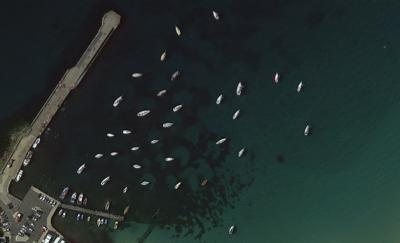Ships: (232, 101, 244, 128), (133, 62, 146, 85), (235, 141, 248, 162), (213, 88, 225, 105), (75, 158, 85, 176), (303, 118, 310, 139), (171, 64, 179, 82)
